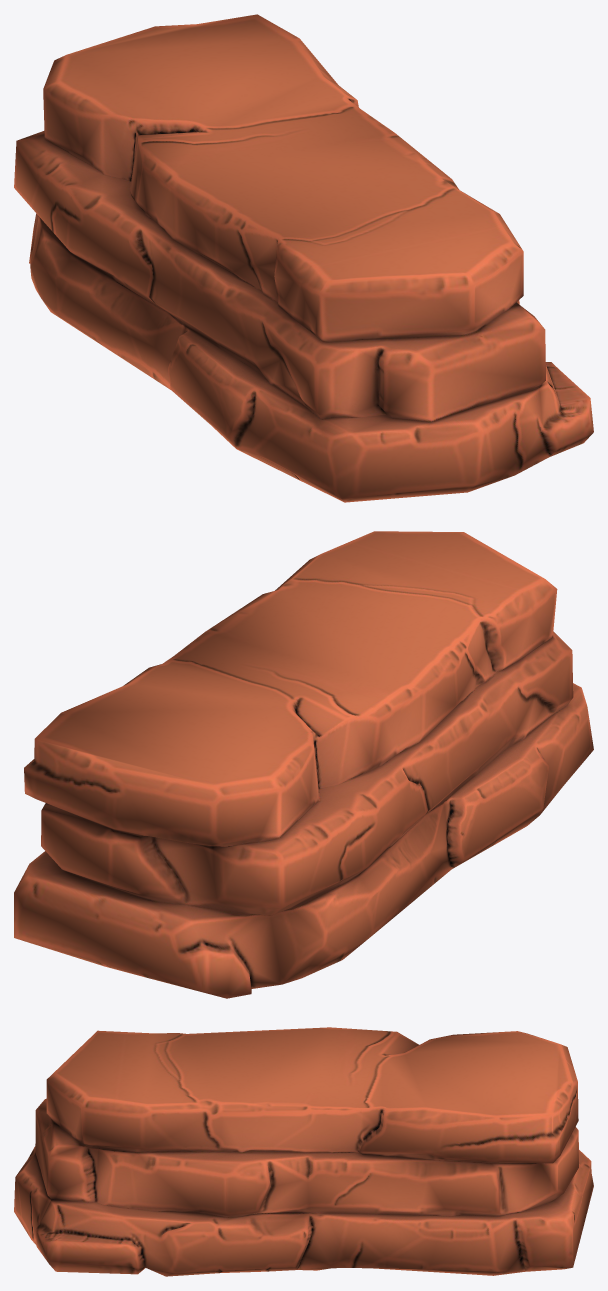
Rendered from sculpting_8.fbx.
3 renders of one model, top to bottom at view 1: azimuth 30°, elevation 25°; view 2: azimuth 150°, elevation 25°; view 3: azimuth 270°, elevation 25°, orthographic. The views are drawn at different scales.
Visible parts, largest first — view 1: Sandstone_8; view 2: Sandstone_8; view 3: Sandstone_8.
Part boxes in pixels (x1,y1,x2,y2): Sandstone_8: [14, 14, 593, 502]; Sandstone_8: [14, 531, 593, 998]; Sandstone_8: [14, 1027, 593, 1276].
Size of the model in its own units: 210 by 134 by 453.
Materials: 1 (1 with a texture image).
